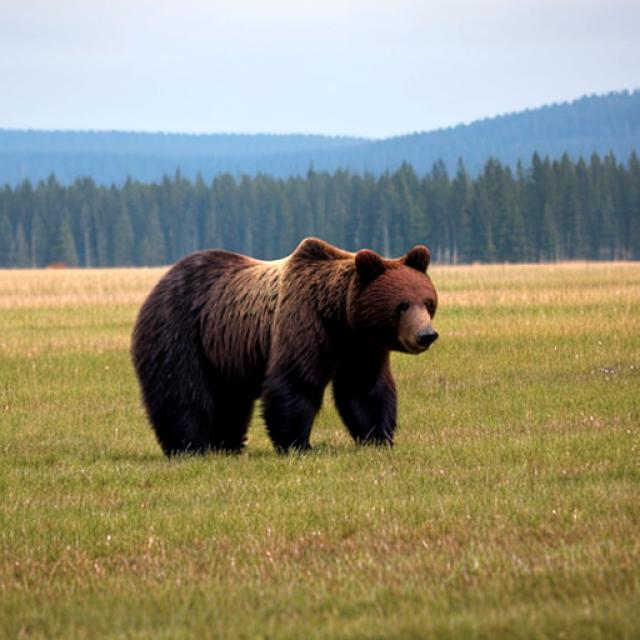bear: (108, 245, 451, 478)
